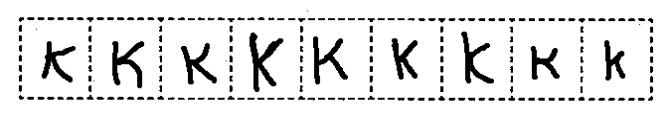K: (454, 29, 500, 89), (242, 29, 284, 94), (307, 33, 352, 86), (34, 35, 80, 86), (106, 38, 150, 90), (384, 34, 426, 85), (177, 40, 219, 89), (521, 40, 568, 83), (598, 37, 630, 83)
